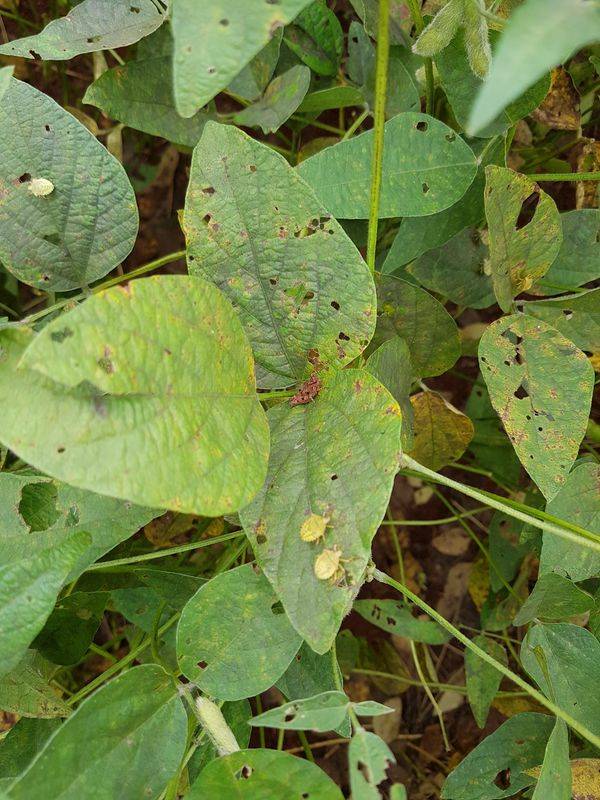Euschistus_heros_ninfa: (310, 545, 361, 592), (289, 501, 338, 547), (20, 171, 61, 205), (513, 269, 538, 296)
Rhammatocerus_schistocercoides: (283, 368, 334, 416)
